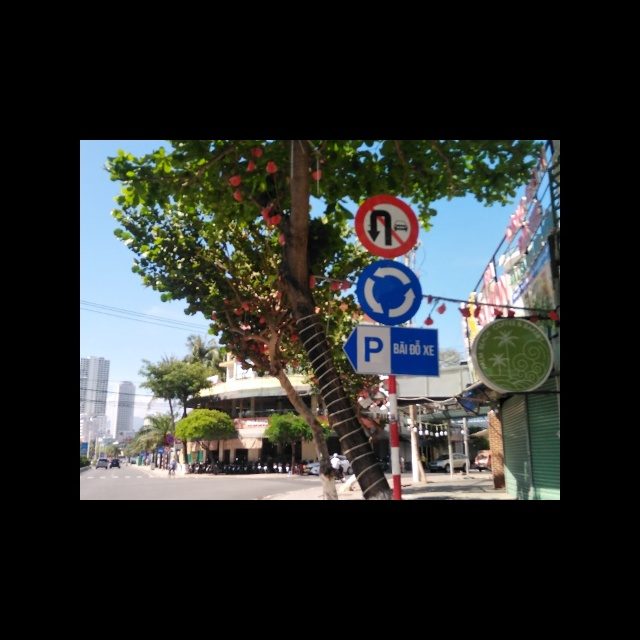Cấm xe ô tô quay đầu: (355, 194, 420, 258)
Nơi giao nhau chạy theo vòng xuyến: (355, 261, 422, 327)
Nơi đỗ xe: (343, 327, 439, 374)
